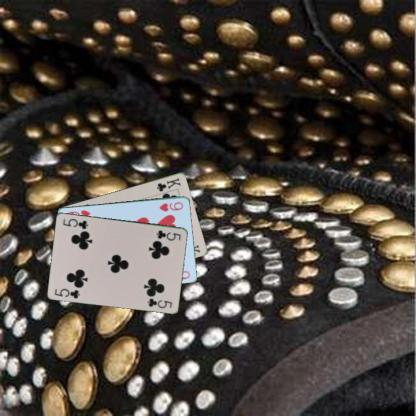5c: (154, 228, 182, 242), (52, 286, 81, 299)
9h: (157, 199, 184, 213)
Kc: (154, 175, 182, 192)
